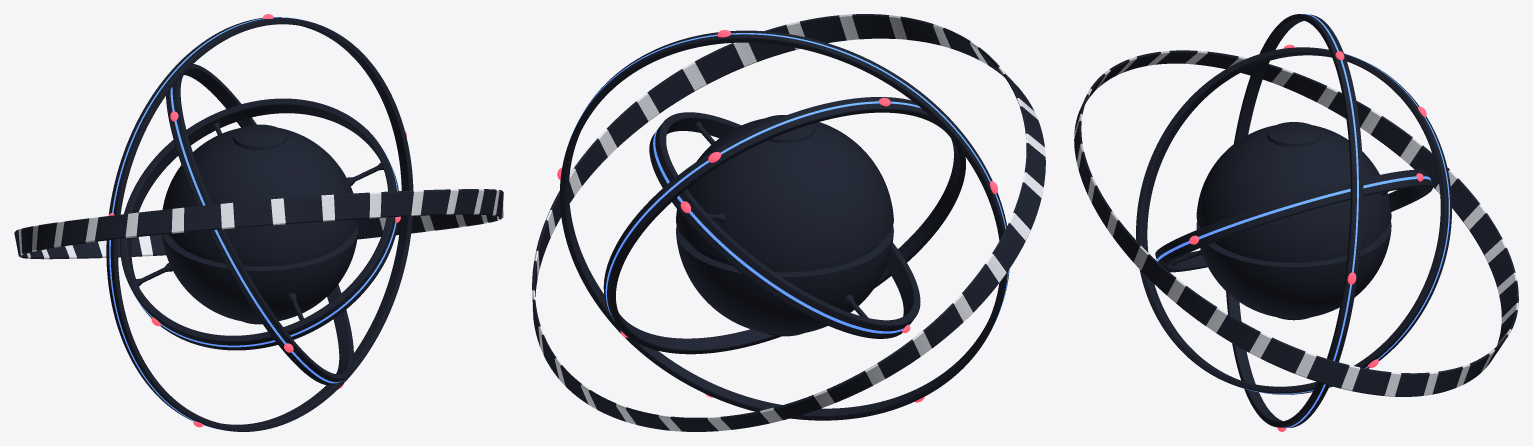
File: hero-core.glb
3 views of the same model, side by side, from view 1: azimuth 30°, elevation 25°; view 2: azimuth 150°, elevation 25°; view 3: azimuth 270°, elevation 25° (orthographic). The views are drawn at different scales.
Parts seen in each view (by area): view 1: Core, Ribbon, Ring_Outer, Ring_Inner, Ring_Mid, Trace_Outer, Trace_Mid, Trace_Inner; view 2: Core, Ribbon, Ring_Outer, Ring_Mid, Ring_Inner, Trace_Inner, Trace_Mid, Trace_Outer; view 3: Core, Ribbon, Ring_Mid, Ring_Outer, Ring_Inner, Trace_Outer, Trace_Inner, Trace_Mid.
Part boxes in pixels (bbox=[...]): Core: bbox=[162, 124, 358, 324]; Ribbon: bbox=[14, 189, 503, 259]; Ring_Outer: bbox=[106, 14, 413, 431]; Ring_Inner: bbox=[120, 98, 400, 350]; Ring_Mid: bbox=[166, 64, 353, 385]; Trace_Outer: bbox=[109, 17, 306, 430]; Trace_Mid: bbox=[170, 87, 340, 383]; Trace_Inner: bbox=[130, 151, 397, 347]; Core: bbox=[676, 115, 893, 336]; Ribbon: bbox=[532, 14, 1045, 431]; Ring_Outer: bbox=[557, 30, 1009, 420]; Ring_Mid: bbox=[603, 97, 965, 354]; Ring_Inner: bbox=[649, 112, 920, 338]; Trace_Inner: bbox=[653, 125, 913, 333]; Trace_Mid: bbox=[605, 101, 921, 319]; Trace_Outer: bbox=[569, 33, 1008, 333]; Core: bbox=[1196, 122, 1391, 320]; Ribbon: bbox=[1074, 50, 1518, 396]; Ring_Mid: bbox=[1136, 44, 1451, 394]; Ring_Outer: bbox=[1226, 14, 1363, 431]; Ring_Inner: bbox=[1155, 169, 1432, 272]; Trace_Outer: bbox=[1283, 14, 1358, 427]; Trace_Inner: bbox=[1156, 176, 1430, 261]; Trace_Mid: bbox=[1233, 53, 1449, 394].
Size of the model in its own units: 4.45 by 3.77 by 4.1.
